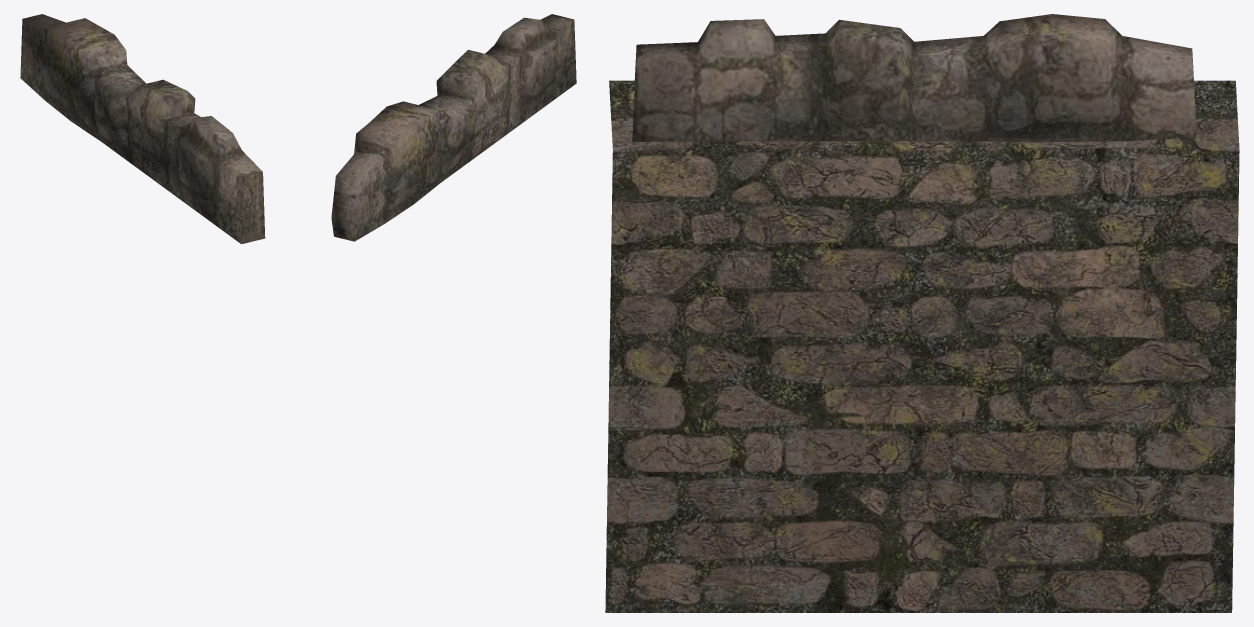
File: SV_Wall_Outside_polySurface12-transformed.glb
The picture shows the model from 3 angles, left to right: view 1: azimuth 30°, elevation 25°; view 2: azimuth 150°, elevation 25°; view 3: azimuth 270°, elevation 25°; orthographic projection. The views are drawn at different scales.
Parts seen in each view (by area): view 1: default; view 2: default; view 3: default.
Part boxes in pixels (x1,y1,x2,y2): default: [20, 14, 265, 244]; default: [331, 14, 576, 241]; default: [605, 14, 1239, 612].
Bounding box in the file's own units: 1.01 × 8.13 × 8.09.
2 materials, 2 textured.
